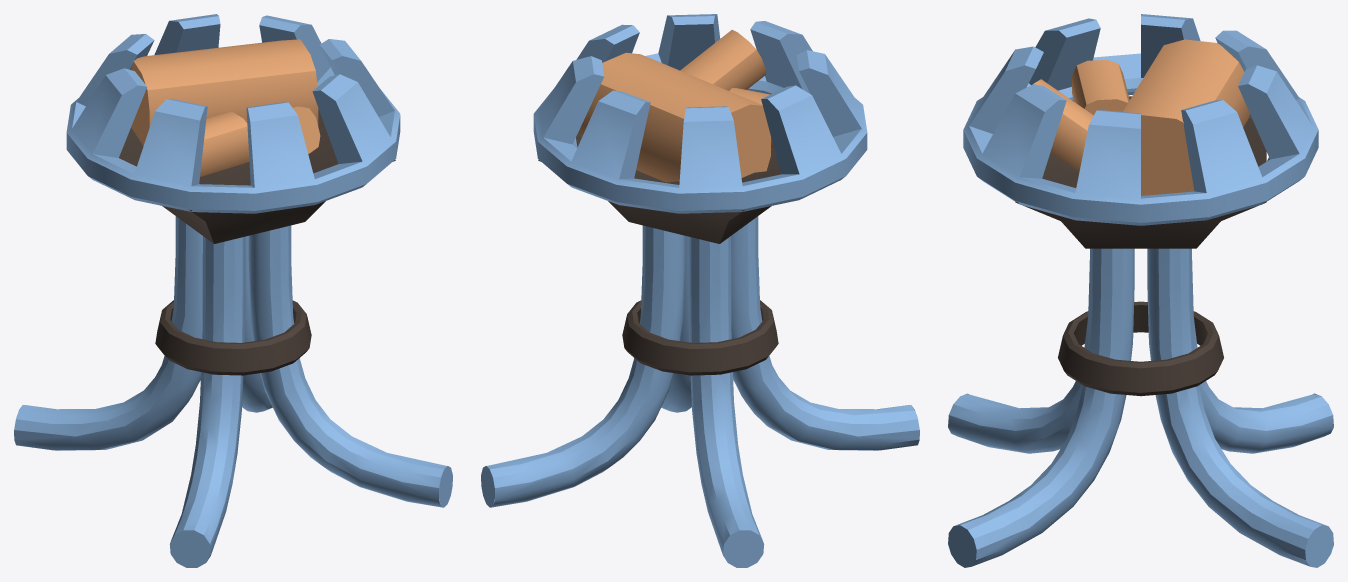
The model's file is brazier.fbx.
3 renders of one model, left to right at view 1: azimuth 30°, elevation 25°; view 2: azimuth 150°, elevation 25°; view 3: azimuth 270°, elevation 25°, orthographic. The views are drawn at different scales.
Parts seen in each view (by area): view 1: NurbsPath.001; view 2: NurbsPath.001; view 3: NurbsPath.001.
Part boxes in pixels (bbox=[...]): NurbsPath.001: bbox=[14, 14, 452, 567]; NurbsPath.001: bbox=[481, 14, 919, 567]; NurbsPath.001: bbox=[948, 14, 1333, 567].
Size of the model in its own units: 0.697 by 0.9428 by 0.7573.
